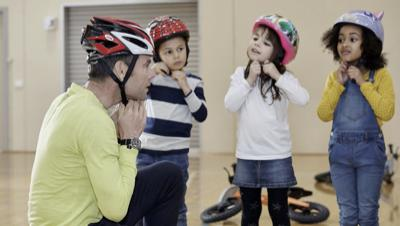With Helmet: (84, 9, 155, 109), (242, 9, 307, 71), (327, 8, 388, 68), (152, 10, 194, 77)
